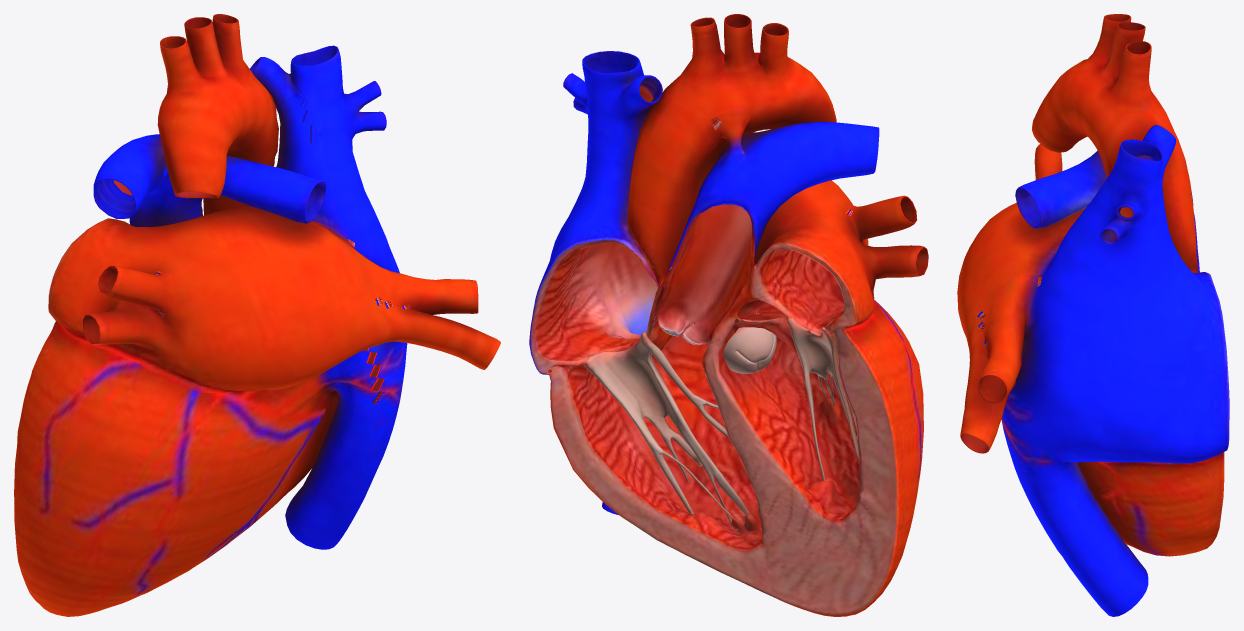
The model's file is half-heart.glb.
The picture shows the model from 3 angles, left to right: view 1: azimuth 30°, elevation 25°; view 2: azimuth 150°, elevation 25°; view 3: azimuth 270°, elevation 25°; orthographic projection. The views are drawn at different scales.
Visible parts, largest first — view 1: HalfHeart; view 2: HalfHeart; view 3: HalfHeart.
Boxes of the visible parts, x1,y1,x2,y2 form: HalfHeart: (14,14,500,616); HalfHeart: (529,14,928,616); HalfHeart: (957,14,1229,616).
Bounding box in the file's own units: 0.1578 × 0.2165 × 0.0962.
Materials: 1 (1 with a texture image).
